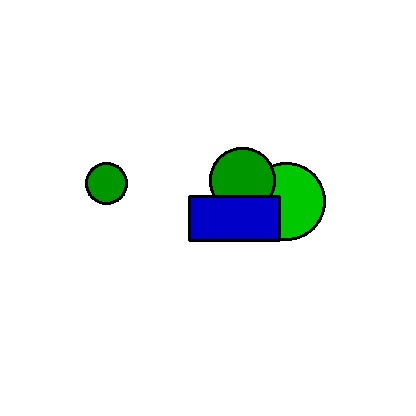circle: (248, 156, 324, 246), (86, 129, 126, 238), (210, 148, 275, 213)
rectangle: (189, 196, 279, 240)
